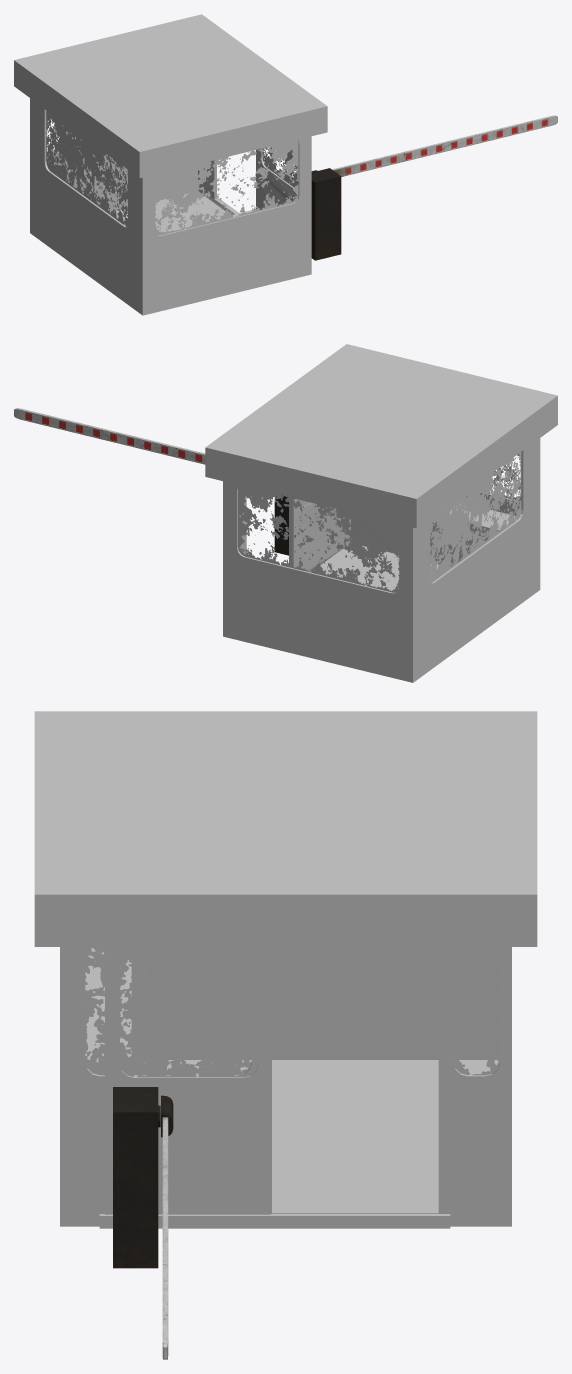
The model's file is blockpost.fbx.
3 renders of one model, top to bottom at view 1: azimuth 30°, elevation 25°; view 2: azimuth 150°, elevation 25°; view 3: azimuth 270°, elevation 25°, orthographic. The views are drawn at different scales.
Visible parts, largest first — view 1: BoothMain, Cube; view 2: BoothMain, Cube; view 3: BoothMain, Cube.
Part boxes in pixels (x1=…): BoothMain: x1=14, y1=14, x2=327, y2=315; Cube: x1=311, y1=115, x2=557, y2=260; BoothMain: x1=205, y1=344, x2=557, y2=682; Cube: x1=14, y1=408, x2=288, y2=555; BoothMain: x1=34, y1=711, x2=537, y2=1228; Cube: x1=113, y1=1087, x2=173, y2=1359.
Bounding box in the file's own units: 691 × 250 × 334.
